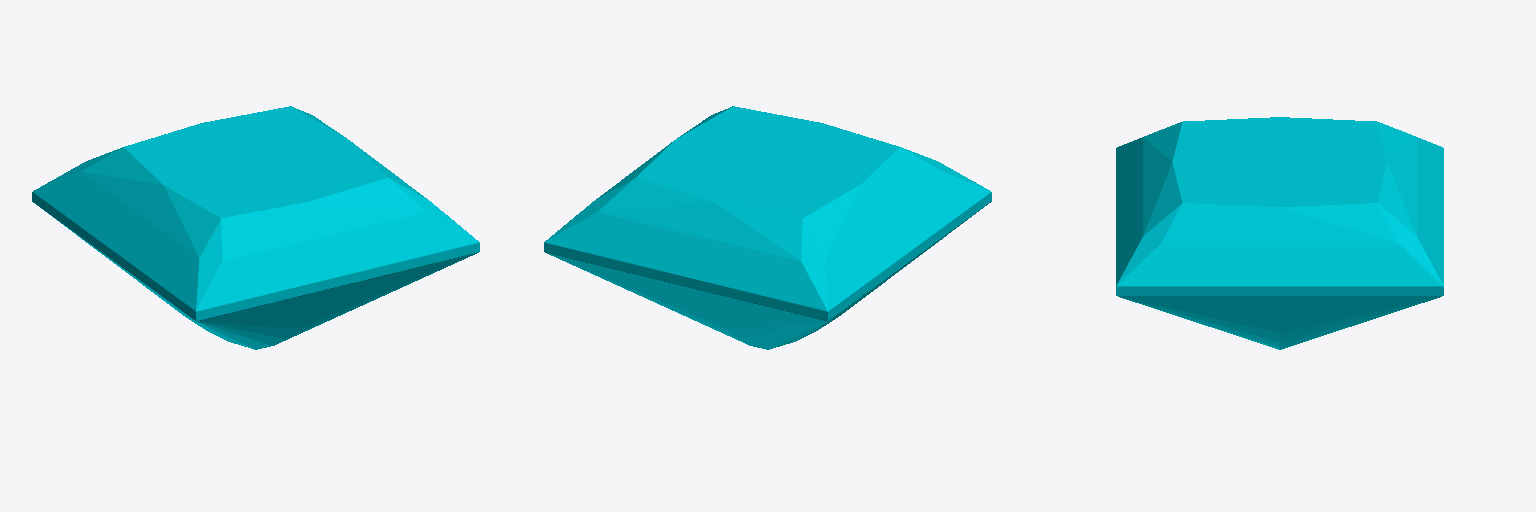
The model's file is Apatite_High_Poly.obj.
3 renders of one model, left to right at view 1: azimuth 30°, elevation 25°; view 2: azimuth 150°, elevation 25°; view 3: azimuth 270°, elevation 25°, orthographic.
Visible parts, largest first — view 1: Apatite_-_Princess_Cut_Plane; view 2: Apatite_-_Princess_Cut_Plane; view 3: Apatite_-_Princess_Cut_Plane.
Part boxes in pixels (x1,y1,x2,y2): Apatite_-_Princess_Cut_Plane: (32, 106, 479, 349); Apatite_-_Princess_Cut_Plane: (544, 106, 991, 349); Apatite_-_Princess_Cut_Plane: (1116, 117, 1443, 349).
Size of the model in its own units: 1.88 by 1.19 by 1.88.